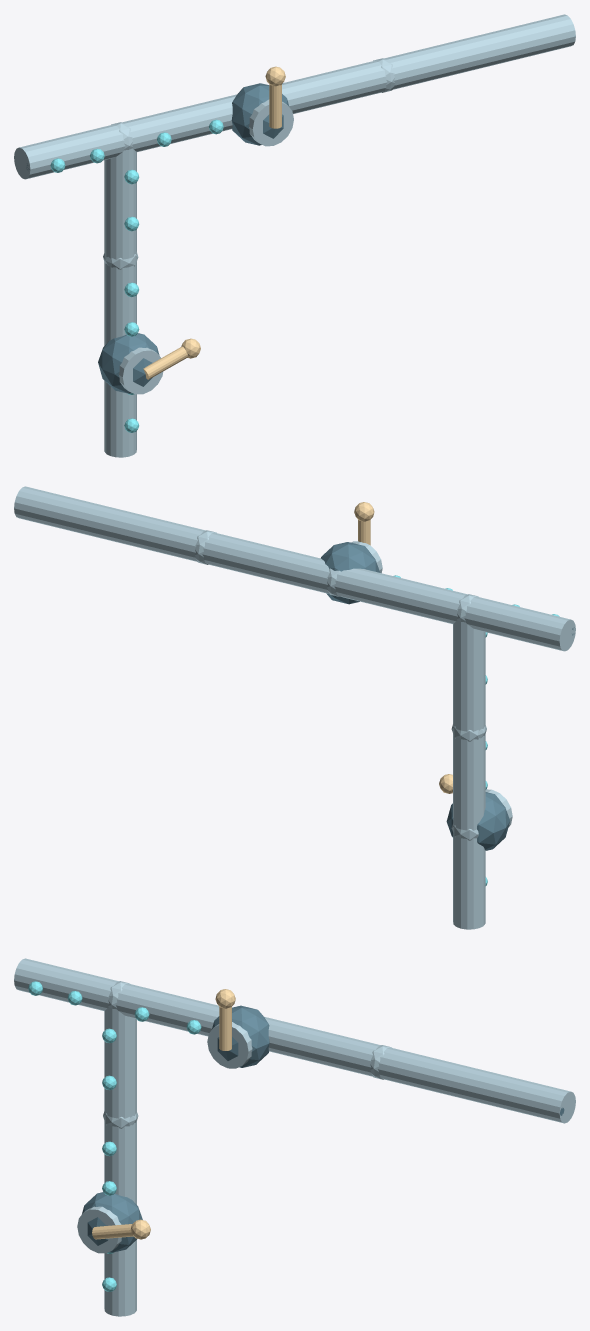
File: water-01-1.glb
3 renders of one model, top to bottom at view 1: azimuth 30°, elevation 25°; view 2: azimuth 150°, elevation 25°; view 3: azimuth 330°, elevation 25°, orthographic.
Parts seen in each view (by area): view 1: pipe, dark, handle, flow; view 2: pipe, dark, handle; view 3: pipe, dark, handle, flow.
Boxes of the visible parts, left/top/right/bottom form: pipe: left=14, top=14, right=575, bottom=457; dark: left=26, top=83, right=289, bottom=393; handle: left=143, top=66, right=285, bottom=379; flow: left=50, top=119, right=223, bottom=432; pipe: left=14, top=486, right=575, bottom=929; dark: left=321, top=542, right=574, bottom=850; handle: left=354, top=502, right=452, bottom=793; pipe: left=14, top=958, right=575, bottom=1316; dark: left=82, top=1005, right=564, bottom=1252; handle: left=92, top=989, right=235, bottom=1239; flow: left=28, top=981, right=201, bottom=1291.
Size of the model in its own units: 2.77 by 1.79 by 0.343.
